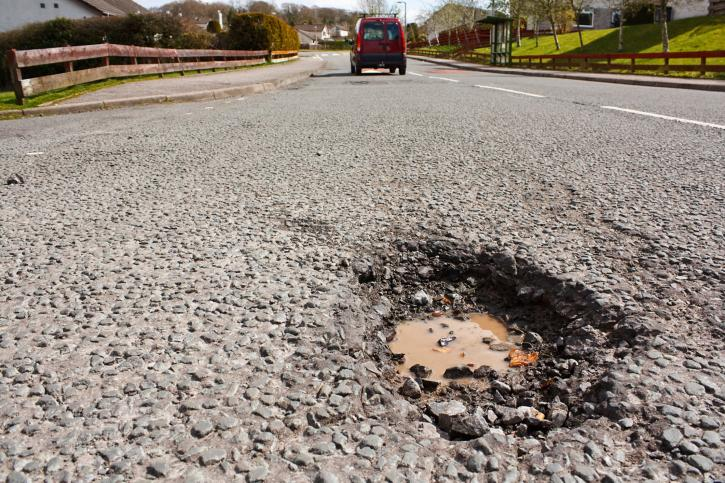pothole: (359, 238, 643, 433)
